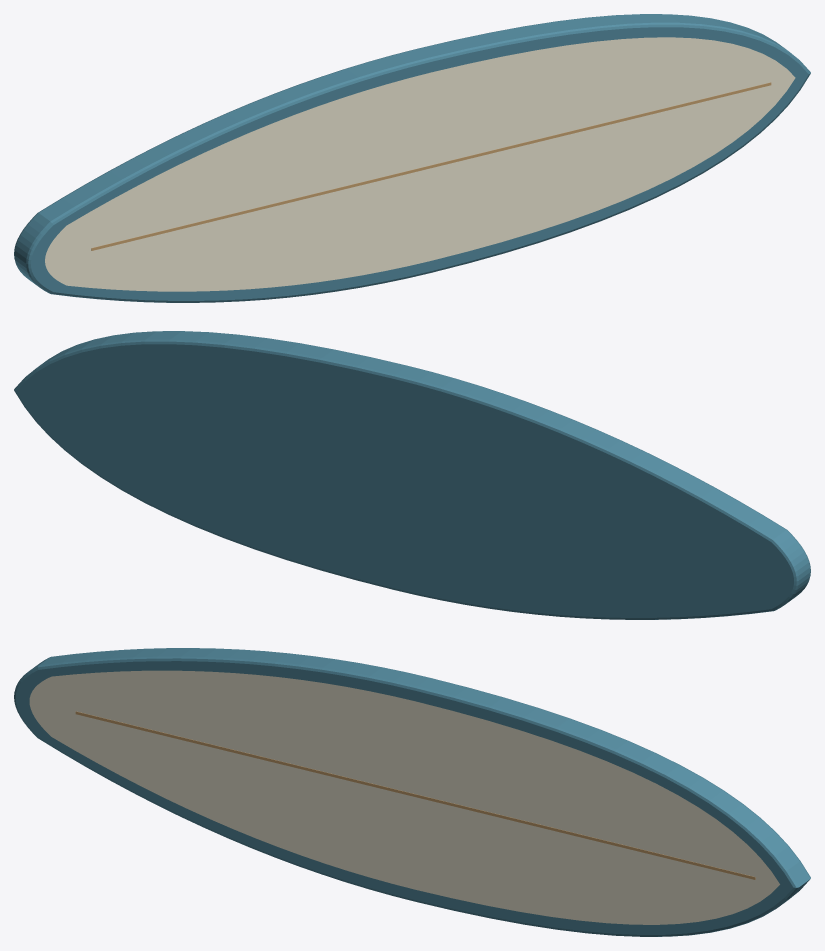
File: torq-mod-fun.glb
The picture shows the model from 3 angles, top to bottom: view 1: azimuth 30°, elevation 25°; view 2: azimuth 150°, elevation 25°; view 3: azimuth 330°, elevation 25°; orthographic projection.
Visible parts, largest first — view 1: torq-mod-fun; view 2: torq-mod-fun; view 3: torq-mod-fun.
Part boxes in pixels (left/top/right/bottom): torq-mod-fun: left=14, top=14, right=810, bottom=302; torq-mod-fun: left=14, top=331, right=810, bottom=619; torq-mod-fun: left=14, top=648, right=810, bottom=936.
Bounding box in the file's own units: 2.03 × 0.5335 × 0.0698.
